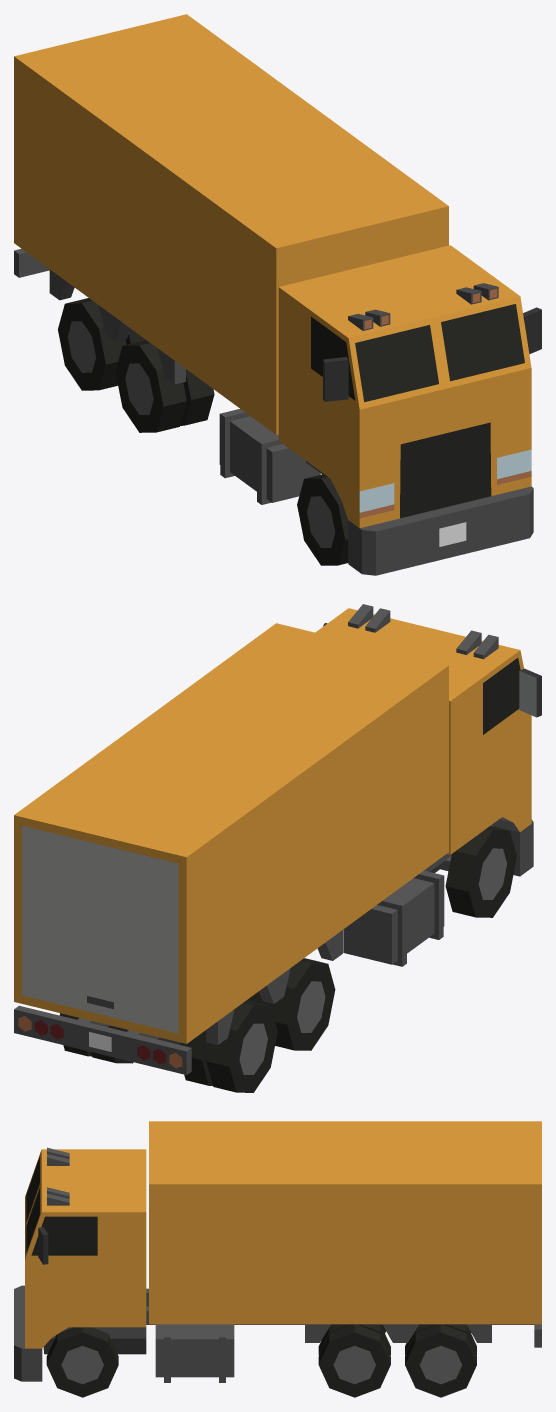
File: Veh_Truck_03_Yellow.glb
3 views of the same model, one above another, from view 1: azimuth 30°, elevation 25°; view 2: azimuth 150°, elevation 25°; view 3: azimuth 270°, elevation 25° (orthographic). The views are drawn at different scales.
Parts seen in each view (by area): view 1: Truck_03_Yellow, Wheel_RR1, Wheel_RR2, Wheel_FR; view 2: Truck_03_Yellow, Wheel_RR2, Wheel_FR, Wheel_RR1; view 3: Truck_03_Yellow, Wheel_RL1, Wheel_RL2, Wheel_FL.
Part boxes in pixels (x1,y1,x2,y2): Truck_03_Yellow: (14,14,541,575); Wheel_RR1: (115,340,214,432); Wheel_RR2: (58,298,146,390); Wheel_FR: (297,474,348,565); Truck_03_Yellow: (14,604,541,1074); Wheel_RR2: (180,1000,277,1092); Wheel_FR: (445,826,516,917); Wheel_RR1: (247,958,335,1050); Truck_03_Yellow: (14,1121,541,1382); Wheel_RL1: (318,1324,390,1397); Wheel_RL2: (405,1324,476,1397); Wheel_FL: (46,1327,118,1397).
Bounding box in the file's own units: 1.68 × 2.11 × 4.74.
1 material, 1 textured.
